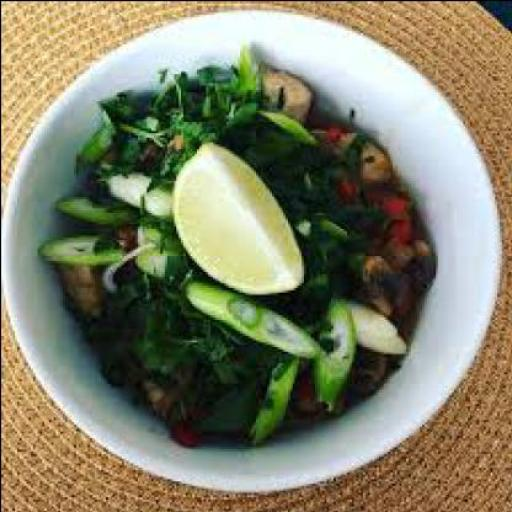biodegradable: (32, 41, 432, 446), (169, 137, 305, 289), (98, 264, 223, 366), (184, 278, 321, 352), (275, 152, 347, 218), (186, 360, 253, 428), (100, 164, 176, 222), (246, 353, 298, 437), (314, 294, 356, 398), (130, 362, 191, 423), (82, 314, 135, 380), (346, 291, 405, 350), (255, 59, 310, 118), (354, 182, 408, 241), (102, 102, 169, 148), (351, 243, 394, 312), (198, 74, 257, 122), (332, 126, 389, 174), (55, 193, 132, 228), (148, 70, 212, 112), (242, 126, 296, 174), (192, 338, 246, 386), (34, 234, 125, 262), (55, 260, 98, 318), (256, 98, 310, 143), (162, 116, 211, 158), (401, 232, 435, 286), (360, 253, 392, 309), (68, 125, 114, 157), (225, 43, 255, 91), (165, 409, 205, 444), (103, 360, 130, 392)
